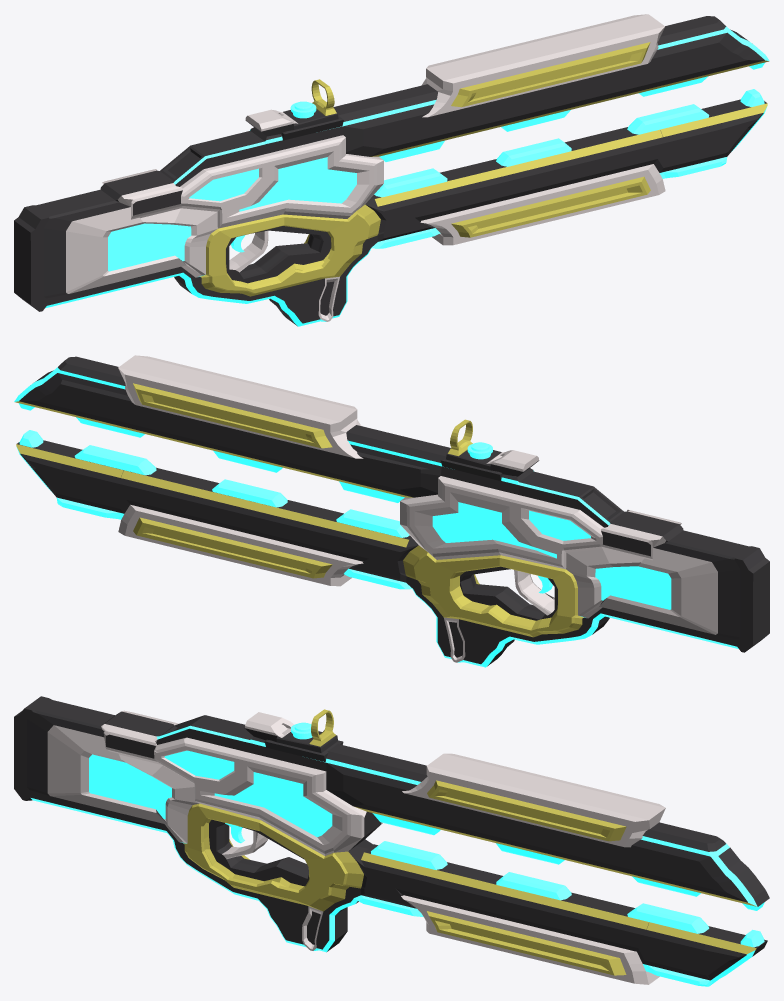
Rendered from RAILGUN_z_materiałem.fbx.
The picture shows the model from 3 angles, top to bottom: view 1: azimuth 30°, elevation 25°; view 2: azimuth 150°, elevation 25°; view 3: azimuth 330°, elevation 25°; orthographic projection.
Visible parts, largest first — view 1: Plane; view 2: Plane; view 3: Plane.
Part boxes in pixels (left/top/right/bottom): Plane: left=14, top=14, right=769, bottom=326; Plane: left=14, top=355, right=769, bottom=667; Plane: left=14, top=696, right=769, bottom=986.
Bounding box in the file's own units: 1944 × 581 × 152.
